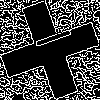I: (25, 25, 73, 54)
